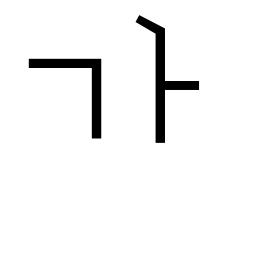Gaji: (141, 69, 187, 111)
